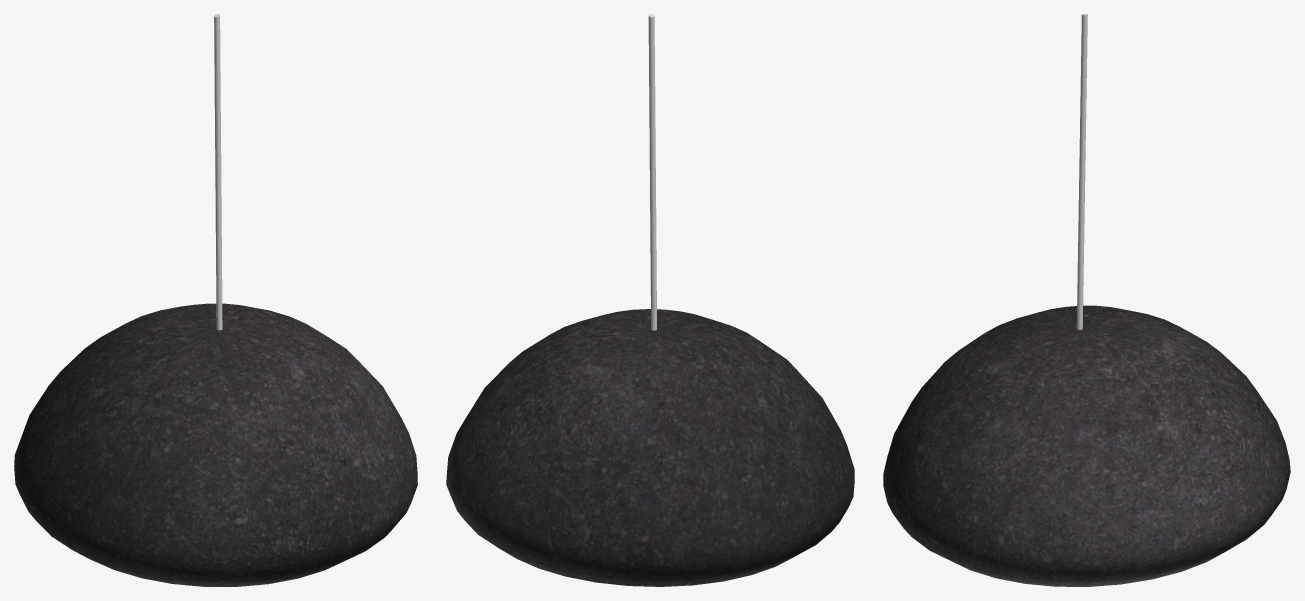
The model's file is lustrev3.fbx.
The picture shows the model from 3 angles, left to right: view 1: azimuth 30°, elevation 25°; view 2: azimuth 150°, elevation 25°; view 3: azimuth 270°, elevation 25°; orthographic projection.
Visible parts, largest first — view 1: Sphere, Cylinder; view 2: Sphere, Cylinder; view 3: Sphere, Cylinder.
Part boxes in pixels (x1,y1,x2,y2): Sphere: (14, 303, 417, 586); Cylinder: (214, 14, 222, 330); Sphere: (446, 309, 854, 586); Cylinder: (648, 14, 656, 330); Sphere: (883, 305, 1290, 586); Cylinder: (1076, 14, 1087, 329).
Size of the model in its own units: 193 by 265 by 193.
2 materials, 1 textured.
